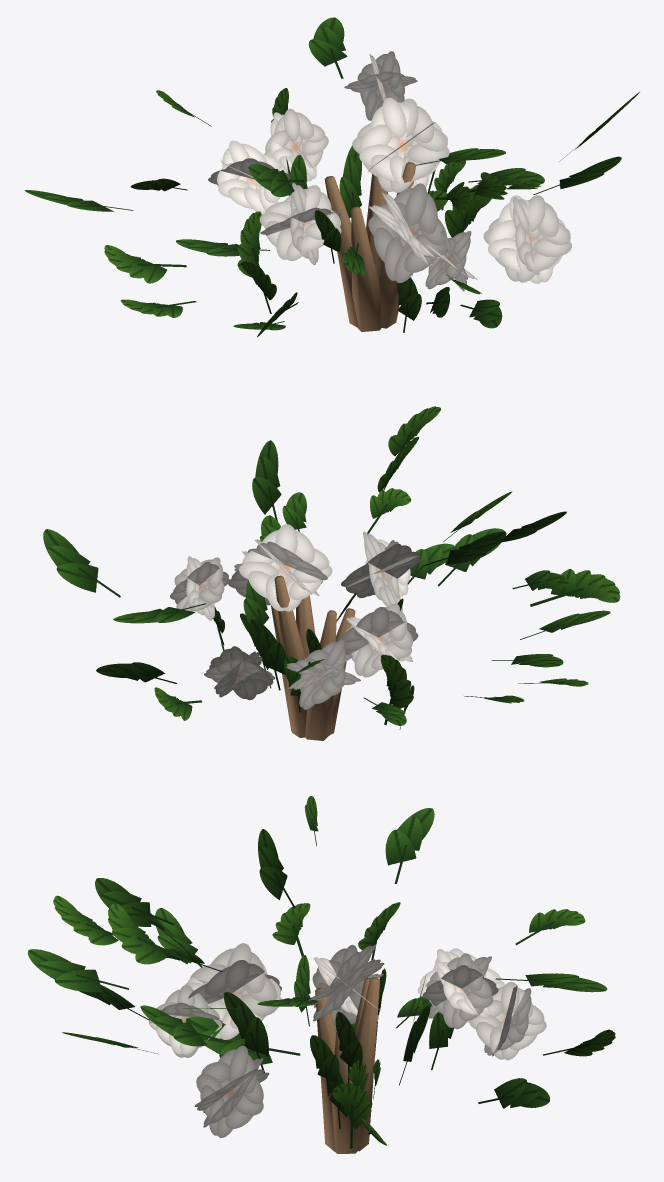
The model's file is peony_white.glb.
3 views of the same model, one above another, from view 1: azimuth 30°, elevation 25°; view 2: azimuth 150°, elevation 25°; view 3: azimuth 270°, elevation 25° (orthographic). The views are drawn at different scales.
Visible parts, largest first — view 1: peony_white; view 2: peony_white; view 3: peony_white.
Part boxes in pixels (x1,y1,x2,y2): peony_white: [25, 17, 639, 337]; peony_white: [43, 406, 620, 740]; peony_white: [27, 796, 615, 1153].
Bounding box in the file's own units: 2.35 × 0.9671 × 2.08.
Materials: 4 (3 with a texture image).
